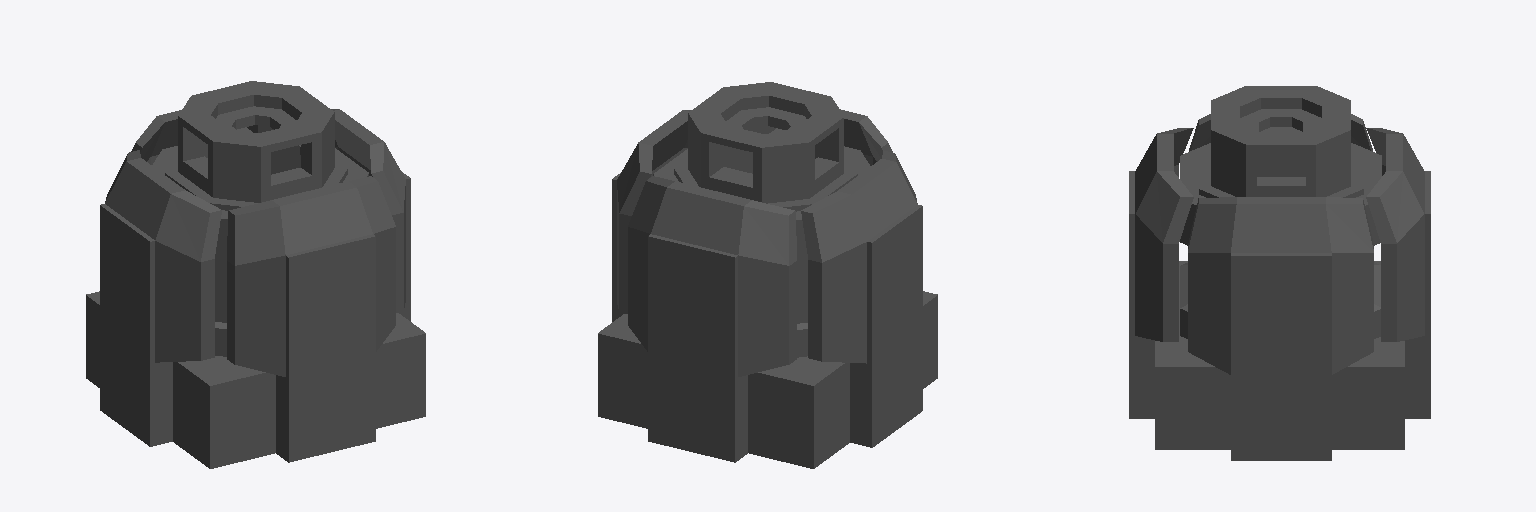
File: L_energy_plant.obj
3 renders of one model, left to right at view 1: azimuth 30°, elevation 25°; view 2: azimuth 150°, elevation 25°; view 3: azimuth 270°, elevation 25°, orthographic.
Parts seen in each view (by area): view 1: pCube1_Untitled; view 2: pCube1_Untitled; view 3: pCube1_Untitled.
Part boxes in pixels (x1,y1,x2,y2): pCube1_Untitled: (86, 81, 425, 468); pCube1_Untitled: (598, 82, 937, 468); pCube1_Untitled: (1129, 86, 1430, 460).
Bounding box in the file's own units: 9.43 × 9.76 × 9.43.